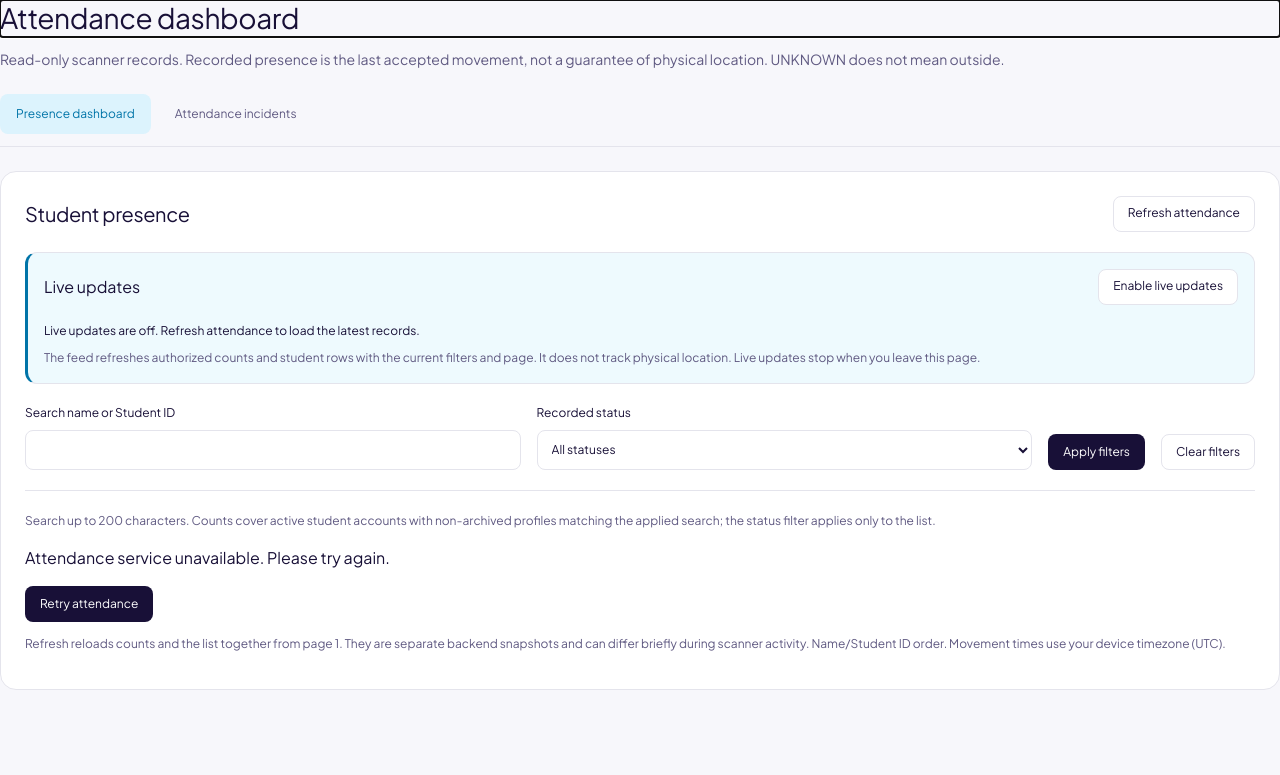
Scenario: handles empty eligible students and list failures without invented zero counts
Expected: the message shows "unavailable", [25,547,390,568]
Click the button "Retry attendance": (89, 604) [25,586,153,622]
(page scrolled)
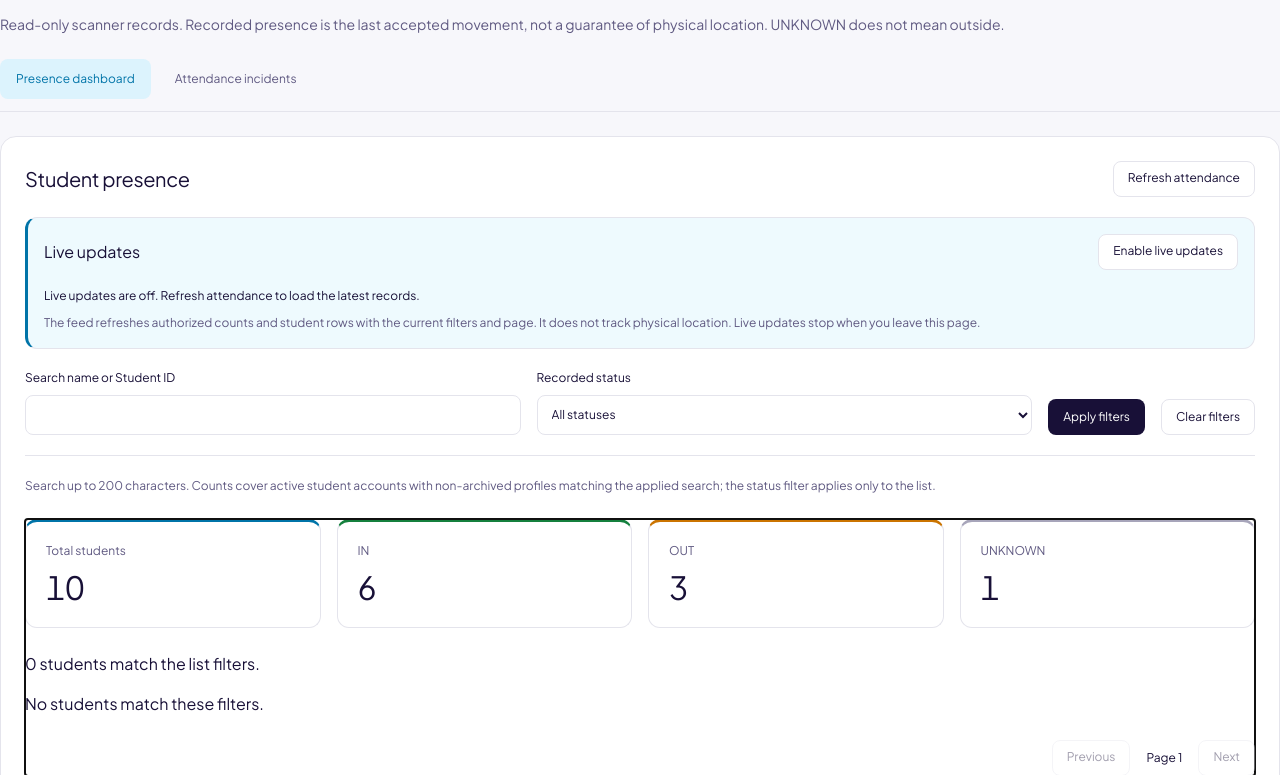
Expected: the text "No students match these filters." is shown, [25,692,264,714]
